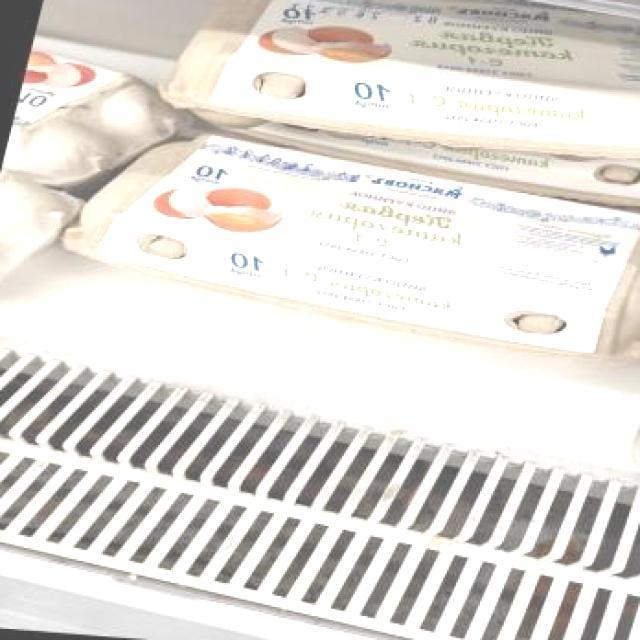egg: (46, 122, 640, 364), (149, 0, 640, 171)
